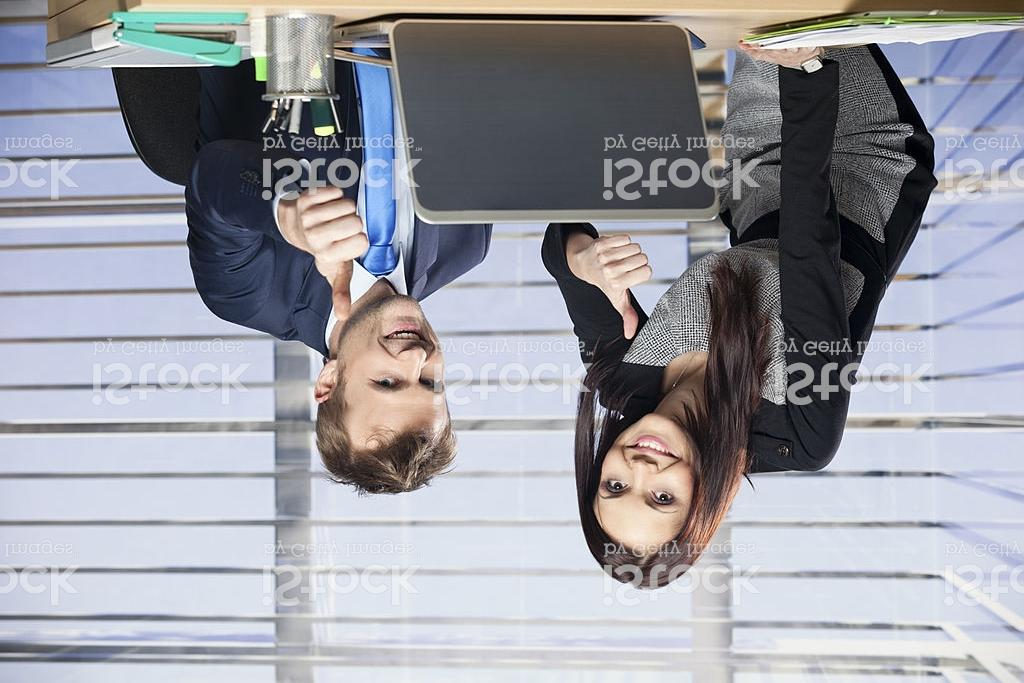thumbsdown: (295, 183, 371, 321), (588, 229, 653, 341)
